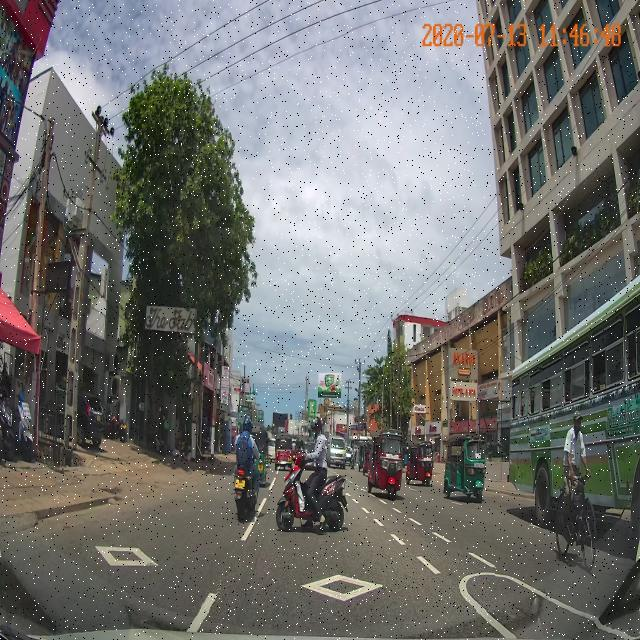diamond: (193, 554, 495, 611)
